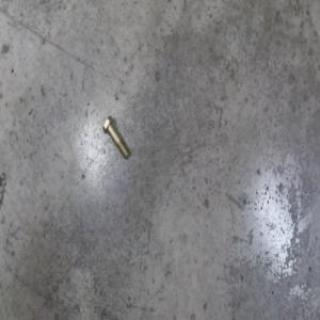Bolttrack_idkeyframe: (101, 115, 129, 160)
